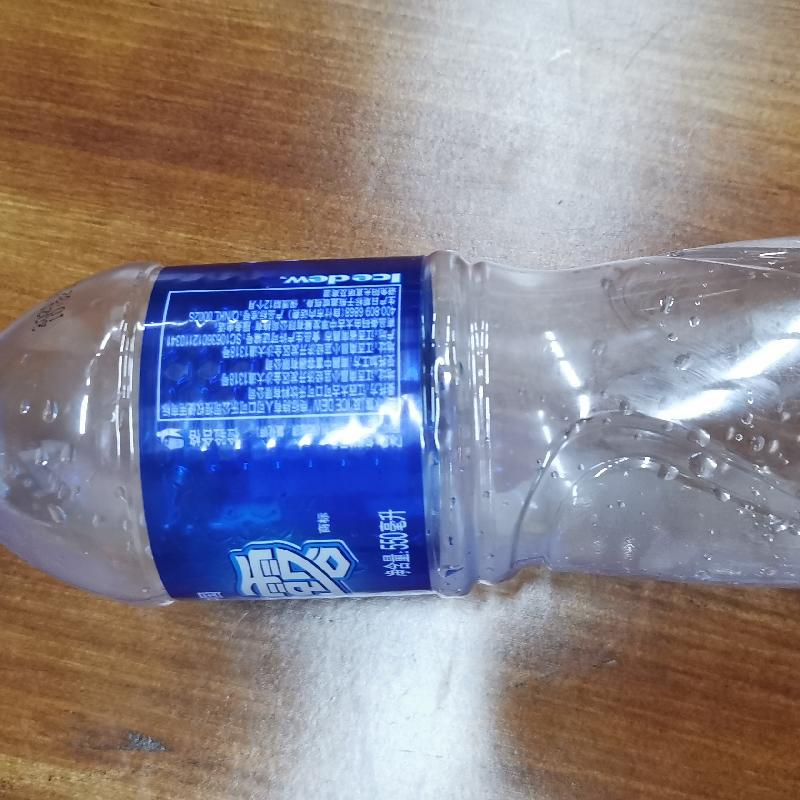bottles: (6, 230, 799, 602)
